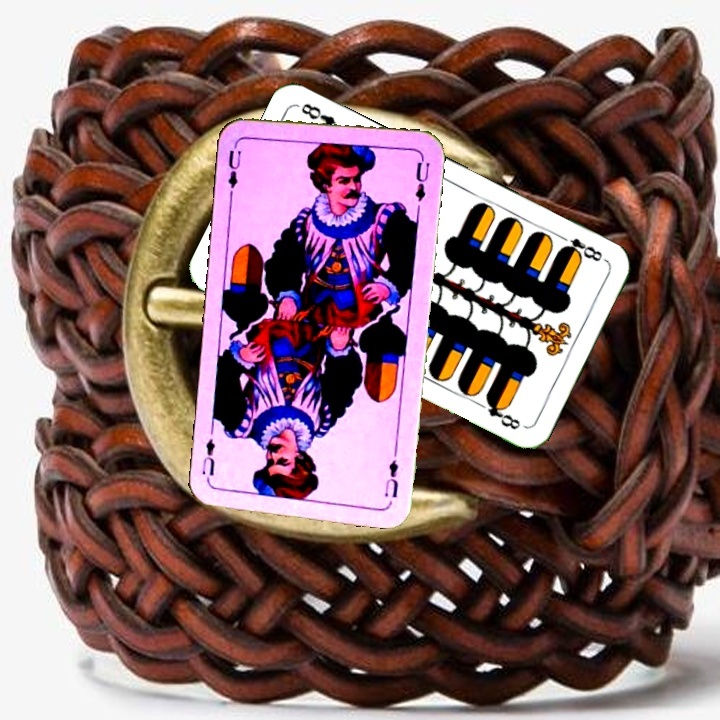E8: (554, 230, 609, 264)
EU: (224, 139, 244, 191), (381, 455, 401, 500)
